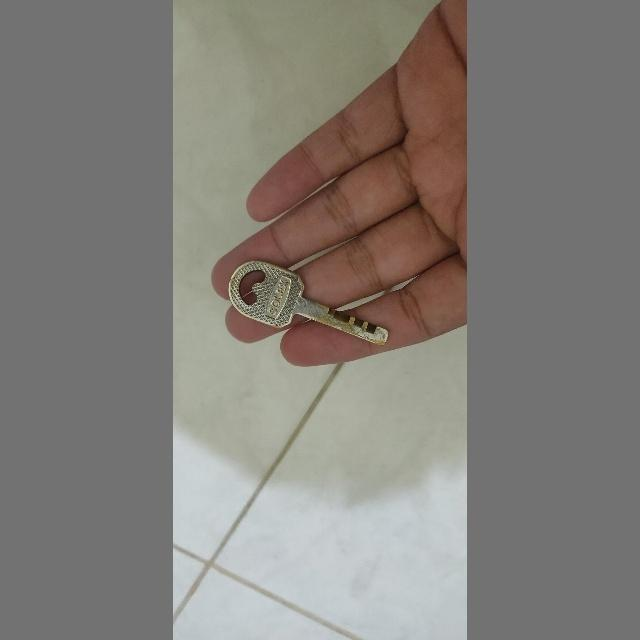Keys: (224, 253, 396, 355)
